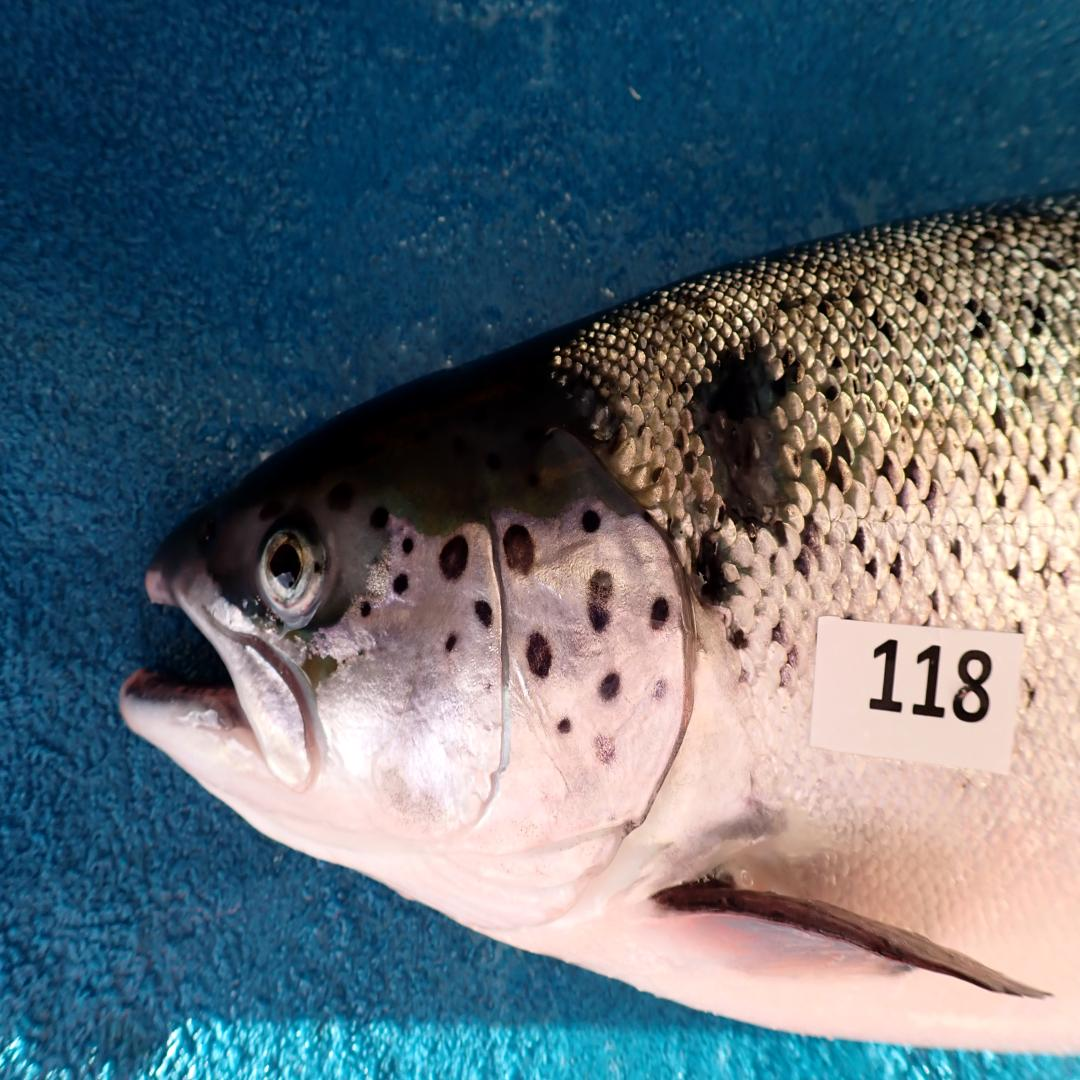roi: (312, 500, 692, 944)
